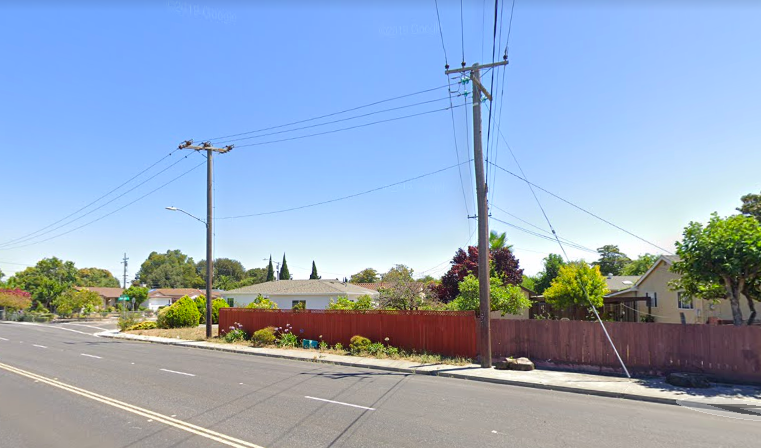utility_pole: (434, 44, 516, 127), (167, 128, 241, 185)
